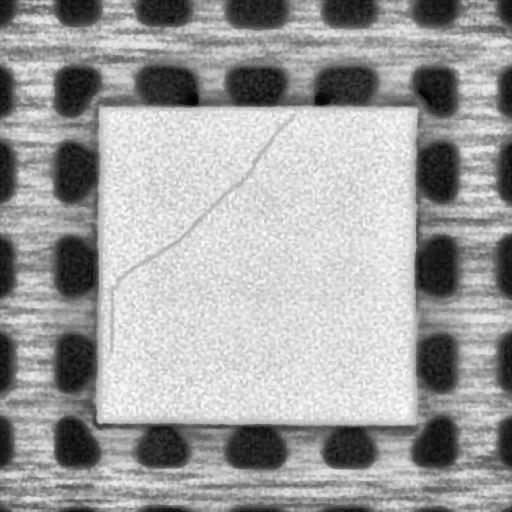DIE_CRACK: (106, 110, 299, 348)
